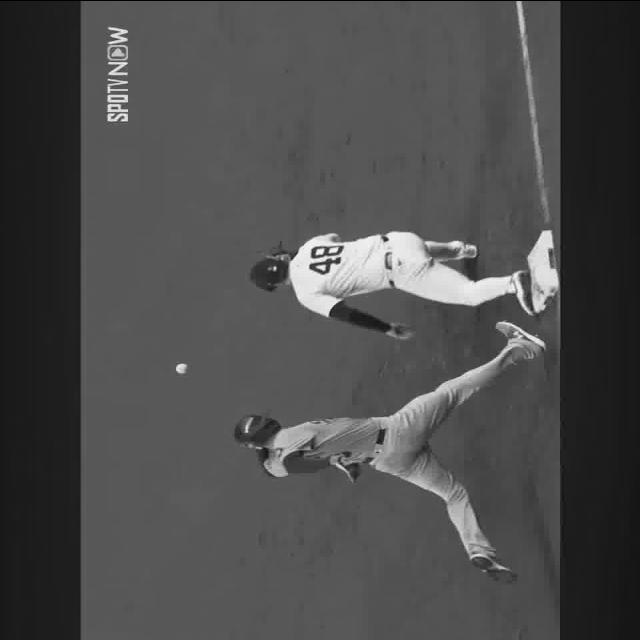base: (527, 229, 560, 312)
baseball: (176, 362, 188, 373)
shoe: (495, 321, 547, 358), (471, 552, 517, 582), (510, 269, 537, 315), (455, 240, 478, 259)
